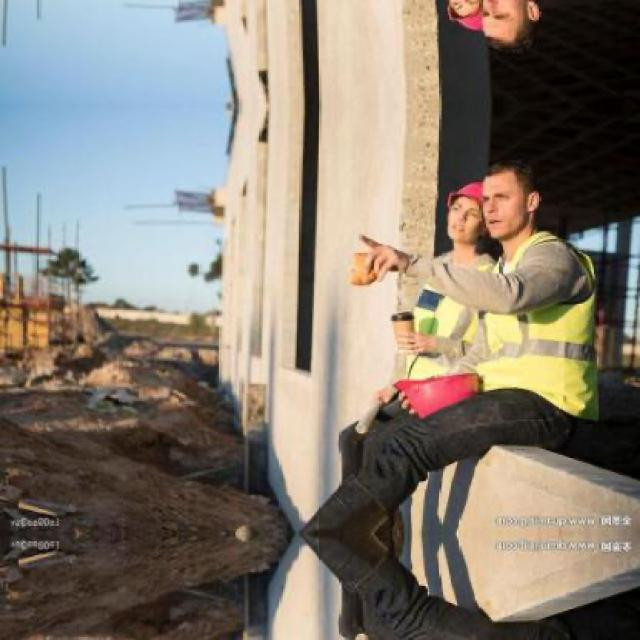con casco: (420, 176, 501, 242)
sin casco: (488, 172, 555, 251)
